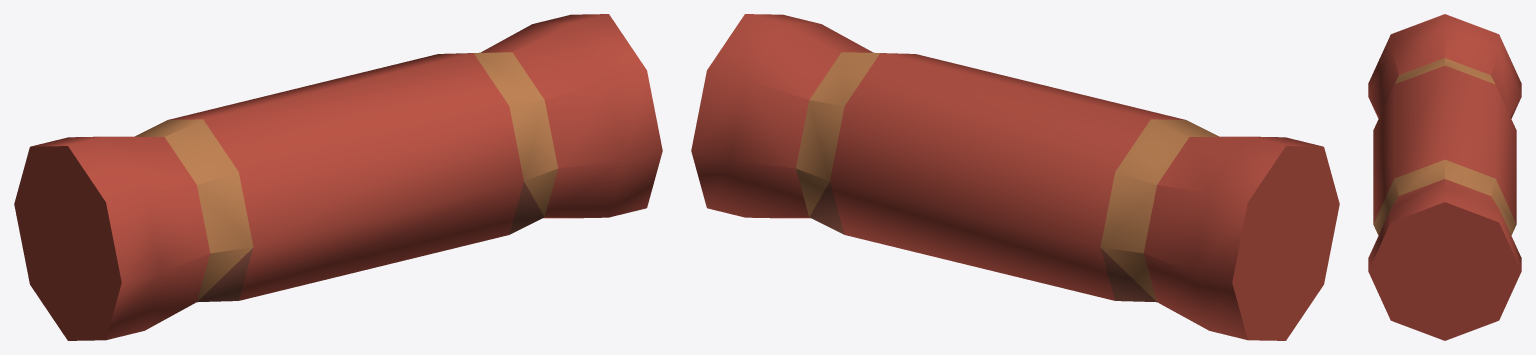
3 renders of one model, left to right at view 1: azimuth 30°, elevation 25°; view 2: azimuth 150°, elevation 25°; view 3: azimuth 270°, elevation 25°, orthographic. The views are drawn at different scales.
Parts seen in each view (by area): view 1: model; view 2: model; view 3: model.
Part boxes in pixels (<box>): model: <box>14,14,662,340</box>; model: <box>691,14,1339,340</box>; model: <box>1368,14,1521,340</box>.
Size of the model in its own units: 0.651 by 0.2242 by 0.2242.
